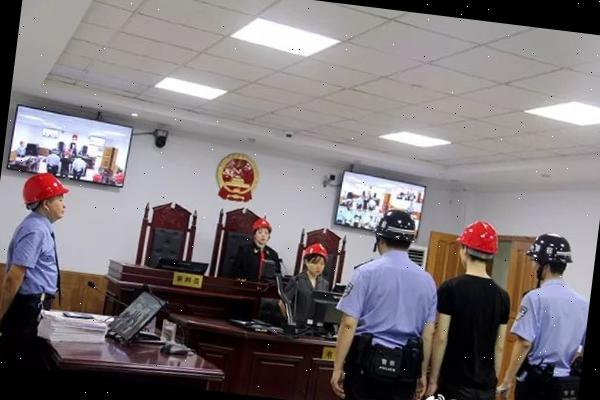helmet: (18, 169, 74, 208), (526, 228, 576, 270), (455, 217, 505, 257), (374, 203, 420, 244), (306, 242, 331, 258)
no_wear: (432, 274, 512, 380), (9, 219, 65, 308), (284, 276, 333, 328)
